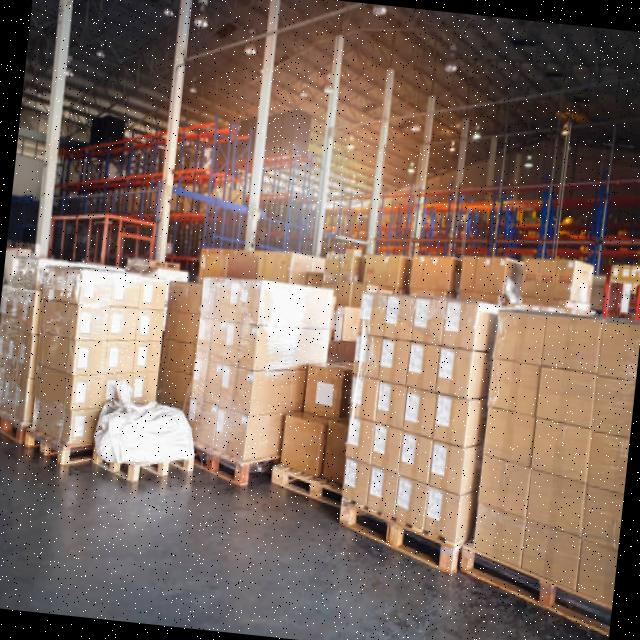Wooden-Pallets: (264, 456, 613, 639), (460, 545, 613, 638), (330, 499, 455, 584), (89, 440, 195, 492), (262, 460, 335, 520), (20, 425, 91, 476), (195, 443, 258, 494), (133, 455, 201, 477), (0, 405, 19, 450)
